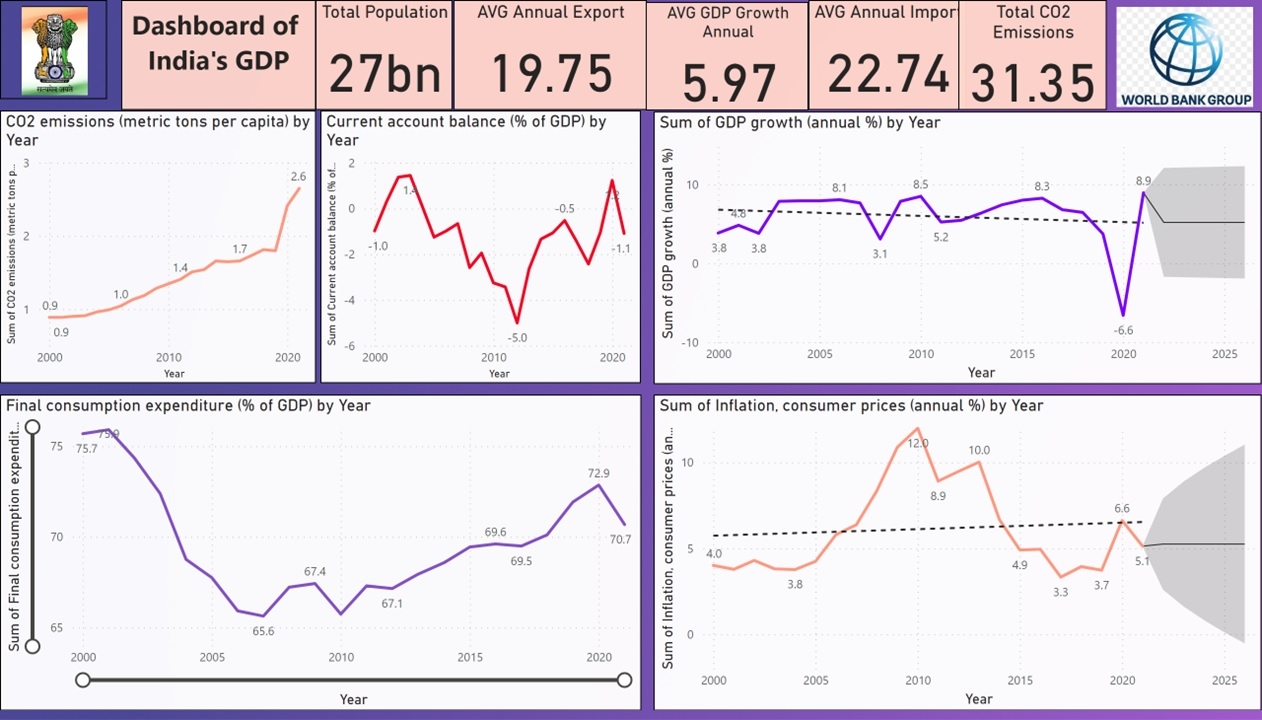

What the dashboard file says about the page in this screenshot:
{"tool":"powerbi","page":{"name":"Dashboard ","canvas":[1280,720],"ordinal":0},"visuals":[{"type":"card","title":"AVG GDP Growth Annual","fields":{"Values":["Avg(Sheet1.GDP growth (annual %))"]},"box":[655.3,1.6,165,110],"z":0},{"type":"card","title":"AVG Annual Export","fields":{"Values":["Avg(Sheet1.Exports of goods and services (% of GDP))"]},"box":[459.5,0,195.8,111.6],"z":1000},{"type":"card","title":"AVG Annual Import","fields":{"Values":["Avg(Sheet1.Imports of goods and services (% of GDP))"]},"box":[820.3,0,160.2,111.6],"z":2000},{"type":"card","title":"Total Population","fields":{"Values":["Sum(Sheet1.Population, total)"]},"box":[320.4,0,139.1,111.6],"z":3000},{"type":"textbox","box":[123,0,197.4,111.6],"z":4000},{"type":"image","box":[0,0,108.4,100.3],"z":5000},{"type":"card","title":"Total CO2 Emissions ","fields":{"Values":["Sum(Sheet1.CO2 emissions (metric tons per capita))"]},"box":[972.4,0,150.5,111.6],"z":6000},{"type":"lineChart","title":"Final consumption expenditure (% of GDP) by Year","fields":{"Category":["Sheet1.Year.Variation.Date Hierarchy.Year"],"Y":["Sum(Sheet1.Final consumption expenditure (% of GDP))"]},"box":[0,399.6,650.4,320.4],"z":6001},{"type":"lineChart","title":"CO2 emissions (metric tons per capita) by Year","fields":{"Category":["Sheet1.Year.Variation.Date Hierarchy.Year"],"Y":["Sum(Sheet1.CO2 emissions (metric tons per capita))"]},"box":[0,111.6,320.4,276.7],"z":6003},{"type":"lineChart","title":"Current account balance (% of GDP) by Year","fields":{"Category":["Sheet1.Year.Variation.Date Hierarchy.Year"],"Y":["Sum(Sheet1.Current account balance (% of GDP))"]},"box":[325.2,111.6,325.2,276.7],"z":6004},{"type":"lineChart","fields":{"Category":["Sheet1.Year.Variation.Date Hierarchy.Year"],"Y":["Sum(Sheet1.GDP growth (annual %))"]},"box":[663.4,113.3,616.4,276.7],"z":6006},{"type":"lineChart","fields":{"Category":["Sheet1.Year.Variation.Date Hierarchy.Year"],"Y":["Sum(Sheet1.Inflation, consumer prices (annual %))"]},"box":[663.4,399.6,616.4,320.4],"z":6007},{"type":"image","box":[1122.9,1.6,156.9,111.6],"z":6008}]}

Visuals, with their boxes in screenshot pixels (x1, y1, x2, y2), scaled from the page's 1280x720 canvas onto the 1262x720 screenshot:
"AVG GDP Growth Annual" card: [left=646, top=2, right=809, bottom=112]
"AVG Annual Export" card: [left=453, top=0, right=646, bottom=112]
"AVG Annual Import" card: [left=809, top=0, right=967, bottom=112]
"Total Population" card: [left=316, top=0, right=453, bottom=112]
textbox: [left=121, top=0, right=316, bottom=112]
image: [left=0, top=0, right=107, bottom=100]
"Total CO2 Emissions " card: [left=959, top=0, right=1107, bottom=112]
"Final consumption expenditure (% of GDP) by Year" lineChart: [left=0, top=400, right=641, bottom=719]
"CO2 emissions (metric tons per capita) by Year" lineChart: [left=0, top=112, right=316, bottom=388]
"Current account balance (% of GDP) by Year" lineChart: [left=321, top=112, right=641, bottom=388]
lineChart - Sheet1.Year.Variation.Date Hierarchy.Year x Sum(Sheet1.GDP growth (annual %)): [left=654, top=113, right=1261, bottom=390]
lineChart - Sheet1.Year.Variation.Date Hierarchy.Year x Sum(Sheet1.Inflation, consumer prices (annual %)): [left=654, top=400, right=1261, bottom=719]
image: [left=1107, top=2, right=1261, bottom=113]
